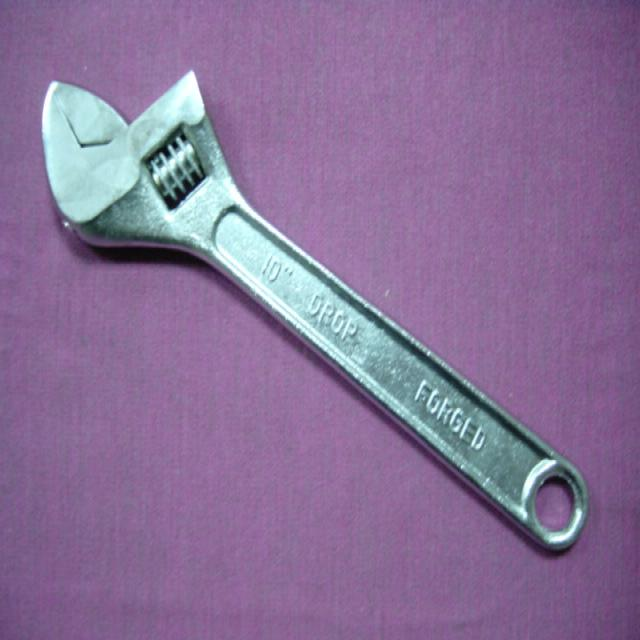wrench: (0, 0, 600, 592)
